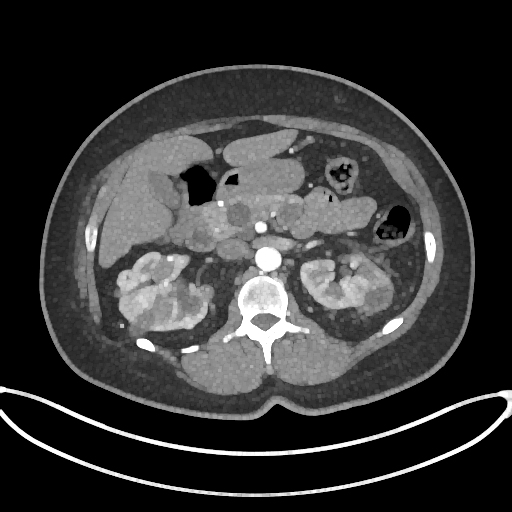Lesion: (111, 268, 140, 294)
